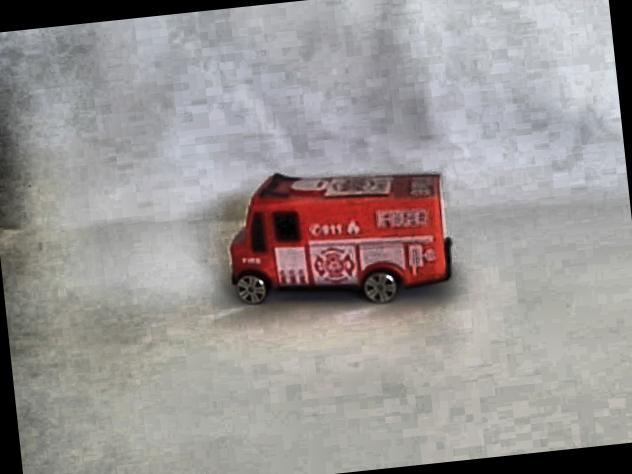fire_truck: (214, 152, 459, 322), (308, 193, 375, 234)
